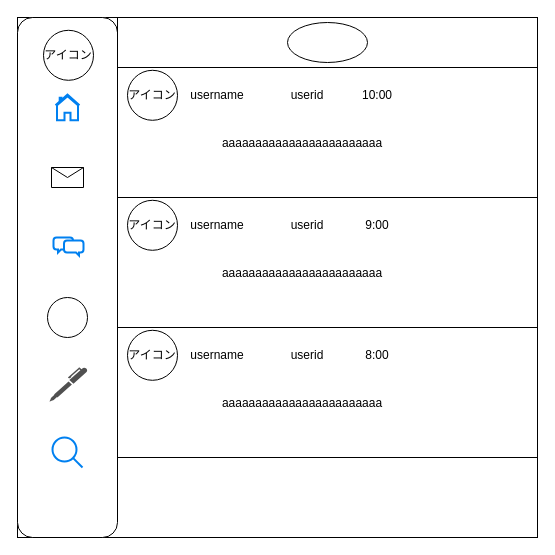
Image size: 555x555. Some labels were removed from this diagram. Each missing label, with the box of its shape:
AI: (46, 296, 88, 338)
Wellside: (286, 22, 368, 62)
